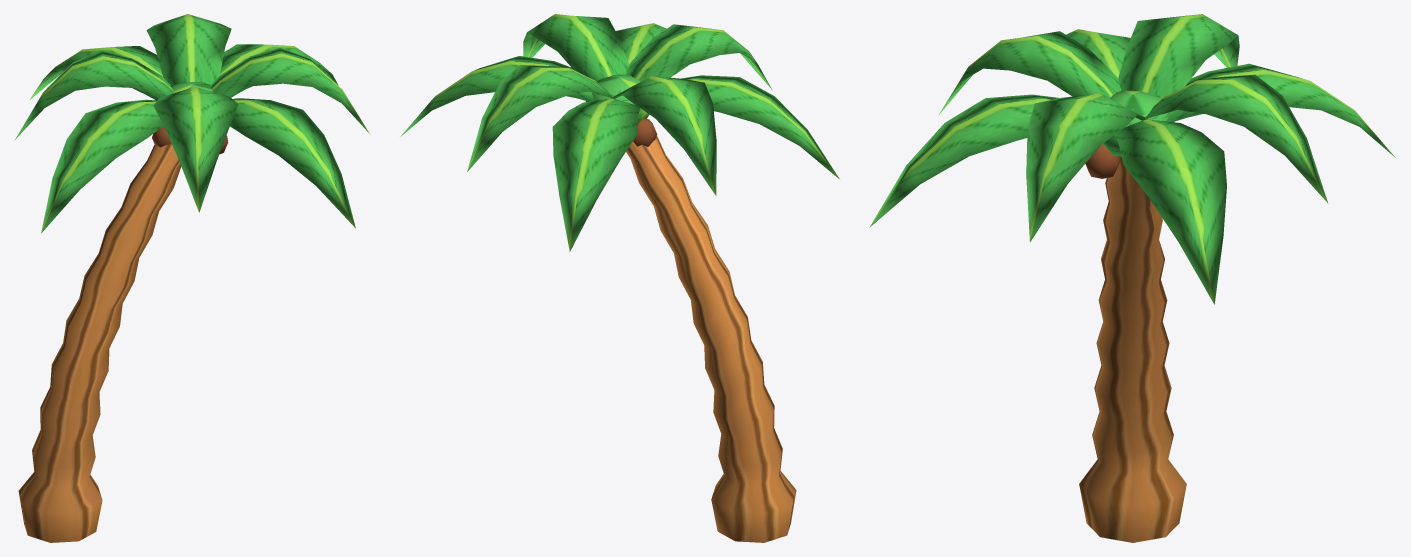
The model's file is palm_1.glb.
3 renders of one model, left to right at view 1: azimuth 30°, elevation 25°; view 2: azimuth 150°, elevation 25°; view 3: azimuth 270°, elevation 25°, orthographic. The views are drawn at different scales.
Parts seen in each view (by area): view 1: palm_1; view 2: palm_1; view 3: palm_1.
Boxes of the visible parts, left/top/right/bottom form: palm_1: left=15, top=14, right=370, bottom=542; palm_1: left=400, top=14, right=839, bottom=542; palm_1: left=869, top=14, right=1395, bottom=542.
Size of the model in its own units: 6.69 by 7.63 by 6.69.
Materials: 2 (2 with a texture image).
